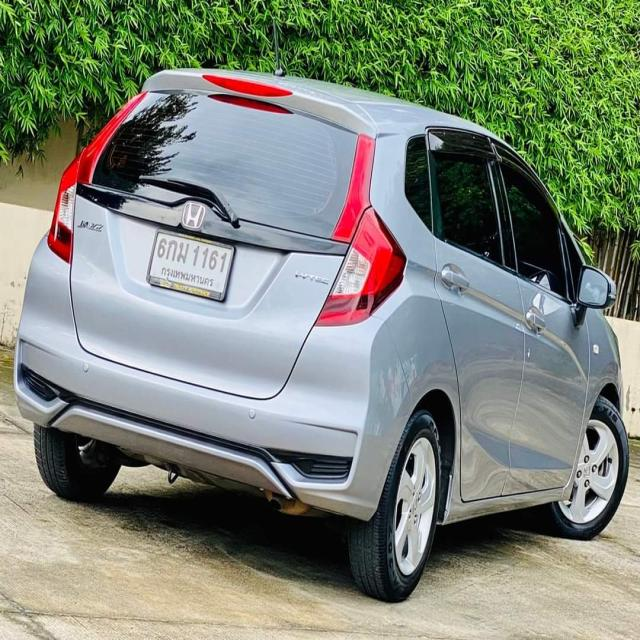license_plate: (144, 226, 238, 306)
